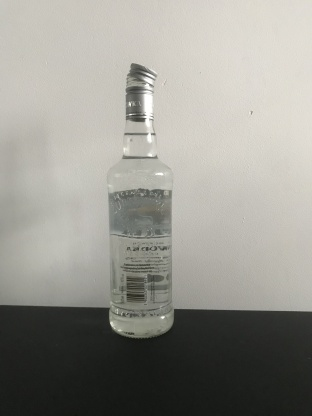nakretka: (123, 60, 158, 122)
